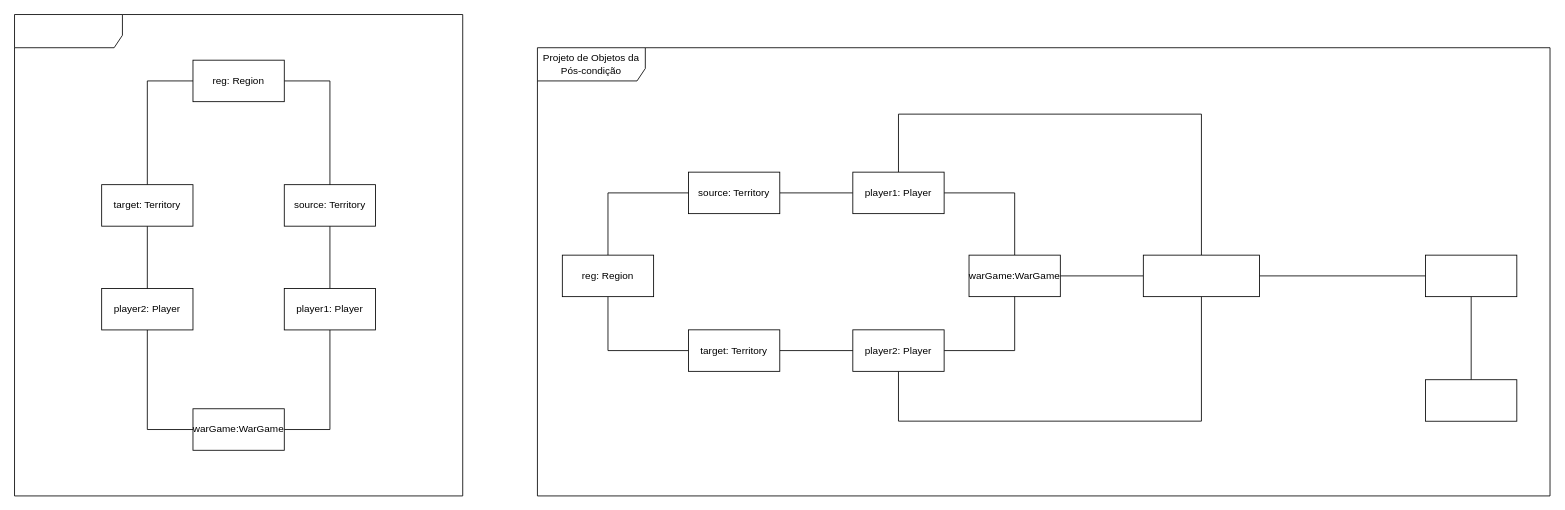
Some shapes in this 1565 by 510 pixel diagram are drawn without their labels. Here are the shapes that lost their labels. From the top down, the centre of each, then its label:
At (238,255): "Projeto de Objetos da Pré-condição".
At (1201,275): "attackPhase: TerritoryConfrontPhase".
At (1471,275): "diceCon: DiceConfront".
At (1471,400): "dice: Dice".
